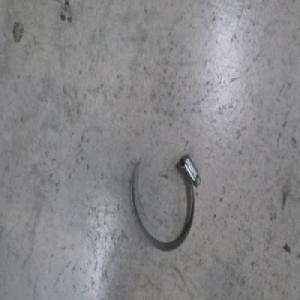AdjustableClamp: (129, 150, 201, 254)
